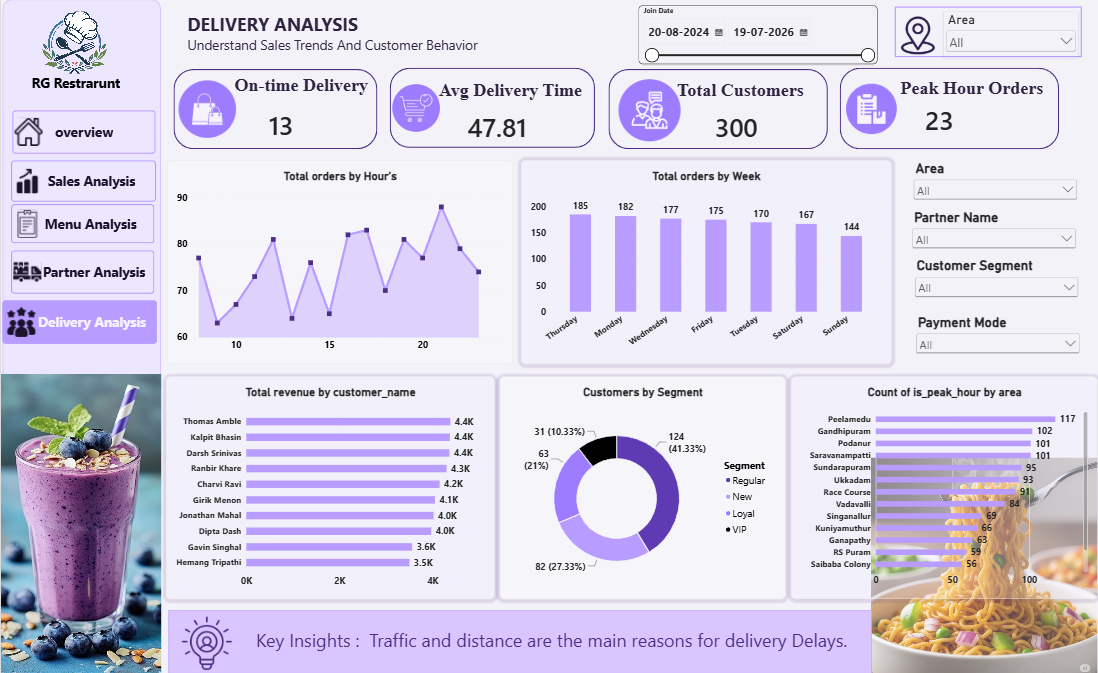

This screenshot's page, from the dashboard's own definition file:
{"tool":"powerbi","page":{"name":"Delivery Analysis","canvas":[1951,1200],"ordinal":5},"visuals":[{"type":"image","box":[1547.5,815,402.5,385],"z":0},{"type":"shape","box":[2.5,0,282.5,1200],"z":1000},{"type":"shape","box":[307.5,125,362.5,142.5],"z":2000},{"type":"textbox","box":[410,132.5,245,57.5],"z":3000},{"type":"image","box":[315,145,102.5,102.5],"z":4000},{"type":"cardVisual","fields":{"Data":["Min(cleaned_orders.actual_delivery_mins)"]},"box":[460,182.5,195,80],"z":5000},{"type":"textbox","box":[331,21.8,651,125.5],"z":6000},{"type":"shape","box":[10.4,81.2,243.8,131.2],"z":7000},{"type":"image","box":[39.6,22.9,181.2,110.4],"z":8000},{"type":"shape","box":[690,122.5,365,142.5],"z":9000},{"type":"textbox","box":[772.5,142.5,265,52.5],"z":10000},{"type":"image","box":[695,137.5,85,112.5],"z":11000},{"type":"cardVisual","fields":{"Data":["Avg(partner_performance.avg_delivery_time)"]},"box":[812.5,192.5,194.6,65.5],"z":12000},{"type":"shape","box":[1080,125,390,142.5],"z":13000},{"type":"textbox","box":[1185,142.5,260,55],"z":14000},{"type":"image","box":[1097.5,137.5,110,120],"z":15000},{"type":"cardVisual","fields":{"Data":["Count(cleaned_customers.customer_name)"]},"box":[1252.5,192.5,194.6,65.5],"z":16000},{"type":"shape","box":[1490,122.5,390,145],"z":17000},{"type":"textbox","box":[1590,140,270,50],"z":18000},{"type":"image","box":[1502.5,137.5,90,115],"z":19000},{"type":"cardVisual","fields":{"Data":["Max(cleaned_orders.order_hour)"]},"box":[1627.5,182.5,195,65],"z":20000},{"type":"actionButton","title":"overview off","box":[20,197.5,255,77.5],"z":22000},{"type":"actionButton","title":"sales off","box":[18,286,258,74],"z":24000},{"type":"actionButton","title":"menu off","box":[17.5,365,255,70],"z":26000},{"type":"actionButton","title":"partner off","box":[17.5,447.5,255,77.5],"z":28000},{"type":"actionButton","title":"Delivery analysis on","box":[11.1,535.6,266.7,77.8],"z":29000},{"type":"shape","box":[297.5,1087.5,1250,112.5],"z":31000},{"type":"textbox","box":[320,1117.5,1317.5,75],"z":32000},{"type":"image","box":[310,1097.5,110,95],"z":33000},{"type":"slicer","fields":{"Values":["cleaned_customers.area"]},"box":[1617.9,285.7,300,87.5],"z":34000},{"type":"slicer","fields":{"Values":["cleaned_partners.partner_name"]},"box":[1615.4,373.2,300,87.5],"z":35000},{"type":"slicer","fields":{"Values":["cleaned_customers.customer_segment"]},"box":[1620,460,300,87.5],"z":36000},{"type":"slicer","fields":{"Values":["cleaned_reviews.sentiment"]},"box":[1622.9,560.7,300,87.5],"z":37000},{"type":"lineChart","title":"Total orders by Hour''s","fields":{"Category":["cleaned_orders.order_hour"],"Y":["formulas.total orders"]},"box":[296,286,614,362],"z":38000},{"type":"clusteredColumnChart","title":"Total orders by Week","fields":{"Category":["cleaned_orders.day_of_week"],"Y":["formulas.total orders"]},"box":[924,286,658,362],"z":39000},{"type":"donutChart","title":"Customers by Segment","fields":{"Category":["cleaned_customers.customer_segment"],"Y":["CountNonNull(cleaned_customers.customer_name)"]},"box":[886,670,508,396],"z":40000},{"type":"barChart","fields":{"Category":["cleaned_customers.customer_name"],"Y":["formulas.Total revenue"]},"box":[294,670,584,396],"z":41000},{"type":"barChart","fields":{"Category":["cleaned_customers.area"],"Y":["CountNonNull(cleaned_orders.is_peak_hour)"]},"box":[1405,670,545,395],"z":42000},{"type":"shape","box":[1589.6,12.5,332.5,90],"z":43000},{"type":"slicer","fields":{"Values":["cleaned_customers.area"]},"box":[1674.6,22.5,240,82.5],"z":44000},{"type":"image","box":[1589.6,30,82.5,67.5],"z":45000},{"type":"slicer","title":"Join Date","fields":{"Values":["cleaned_customers.join_date"]},"box":[1132.5,10,425,105],"z":46000},{"type":"image","box":[0,667.5,285,532.5],"z":47000},{"type":"image","box":[986.7,15.6,117.8,88.9],"z":48000}]}

Visuals, with their boxes in screenshot pixels (x1, y1, x2, y2), scaled from the page's 1951x1200 canvas onto the 1098x673 screenshot:
image: (871,457,1097,672)
shape: (1,0,160,672)
shape: (173,70,377,150)
textbox: (231,74,369,107)
image: (177,81,235,139)
cardVisual - Min(cleaned_orders.actual_delivery_mins): (259,102,369,147)
textbox: (186,12,553,83)
shape: (6,46,143,119)
image: (22,13,124,75)
shape: (388,69,594,149)
textbox: (435,80,584,109)
image: (391,77,439,140)
cardVisual - Avg(partner_performance.avg_delivery_time): (457,108,567,145)
shape: (608,70,827,150)
textbox: (667,80,813,111)
image: (618,77,680,144)
cardVisual - Count(cleaned_customers.customer_name): (705,108,814,145)
shape: (839,69,1058,150)
textbox: (895,79,1047,107)
image: (846,77,896,142)
cardVisual - Max(cleaned_orders.order_hour): (916,102,1026,139)
"overview off" actionButton: (11,111,155,154)
"sales off" actionButton: (10,160,155,202)
"menu off" actionButton: (10,205,153,244)
"partner off" actionButton: (10,251,153,294)
"Delivery analysis on" actionButton: (6,300,156,344)
shape: (167,610,871,672)
textbox: (180,627,922,669)
image: (174,616,236,669)
slicer - cleaned_customers.area: (911,160,1079,209)
slicer - cleaned_partners.partner_name: (909,209,1078,258)
slicer - cleaned_customers.customer_segment: (912,258,1081,307)
slicer - cleaned_reviews.sentiment: (913,314,1082,364)
"Total orders by Hour''s" lineChart: (167,160,512,363)
"Total orders by Week" clusteredColumnChart: (520,160,890,363)
"Customers by Segment" donutChart: (499,376,785,598)
barChart - cleaned_customers.customer_name x formulas.Total revenue: (165,376,494,598)
barChart - cleaned_customers.area x CountNonNull(cleaned_orders.is_peak_hour): (791,376,1097,597)
shape: (895,7,1082,57)
slicer - cleaned_customers.area: (942,13,1078,59)
image: (895,17,941,55)
"Join Date" slicer: (637,6,877,64)
image: (0,374,160,672)
image: (555,9,622,59)
